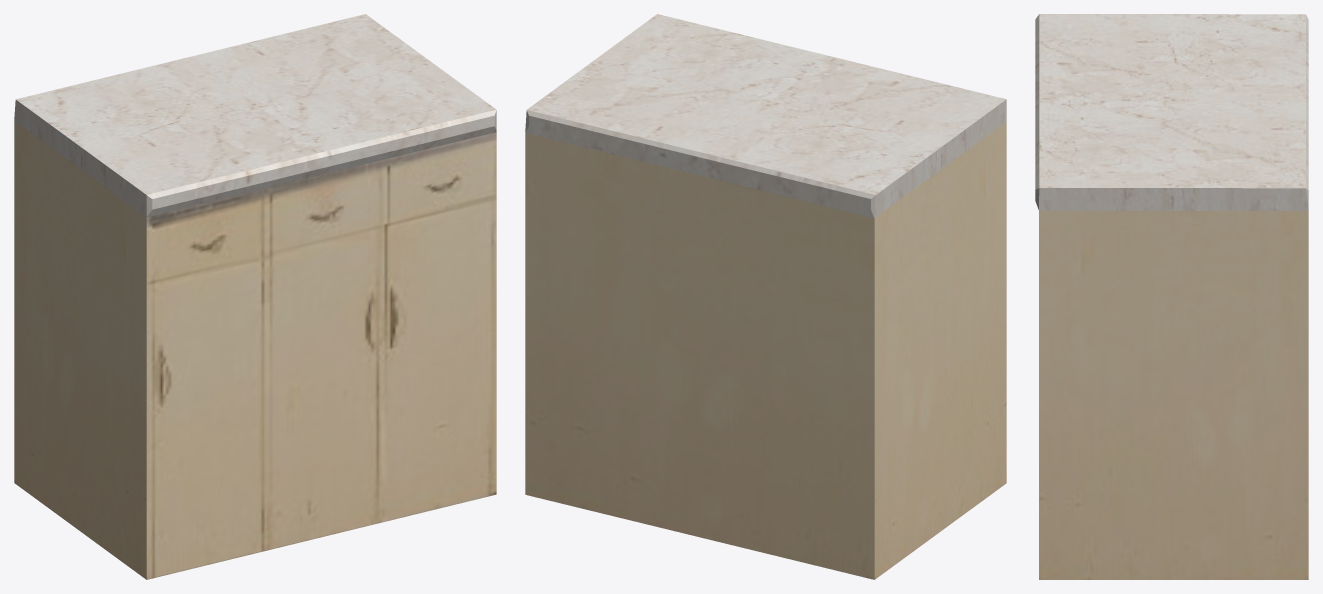
Rendered from Cupboard.fbx_Scene.fbx.
The picture shows the model from 3 angles, left to right: view 1: azimuth 30°, elevation 25°; view 2: azimuth 150°, elevation 25°; view 3: azimuth 270°, elevation 25°; orthographic projection. The views are drawn at different scales.
Parts seen in each view (by area): view 1: Cupboard; view 2: Cupboard; view 3: Cupboard.
Part boxes in pixels (box(x1,y1,x2,y2)): Cupboard: box(14, 14, 496, 579); Cupboard: box(525, 14, 1006, 579); Cupboard: box(1035, 14, 1308, 579).
Bounding box in the file's own units: 92.93 × 97.63 × 61.76.
